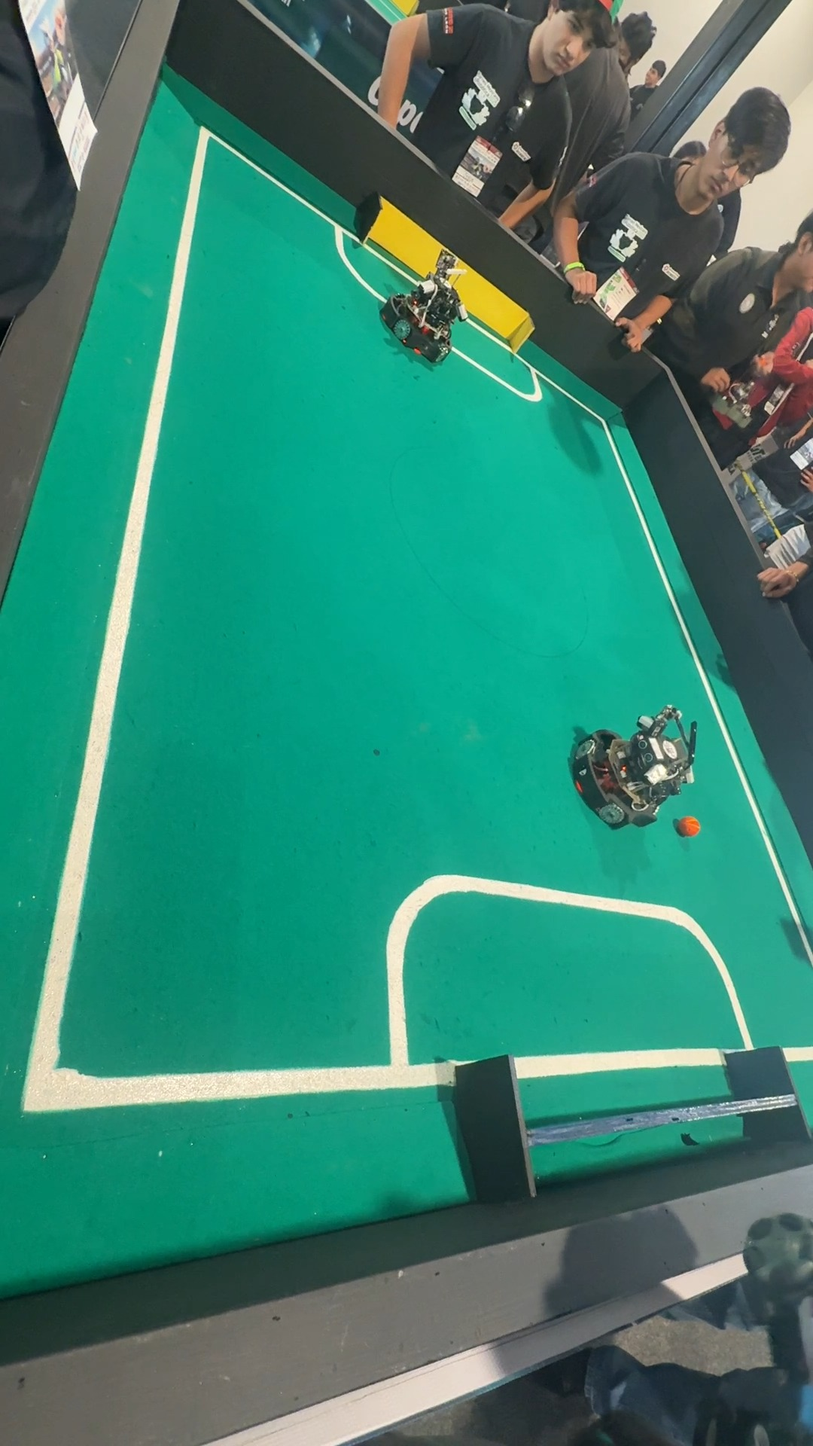Robot: (567, 694, 692, 841), (376, 246, 472, 383)
pelota: (679, 812, 698, 841)
